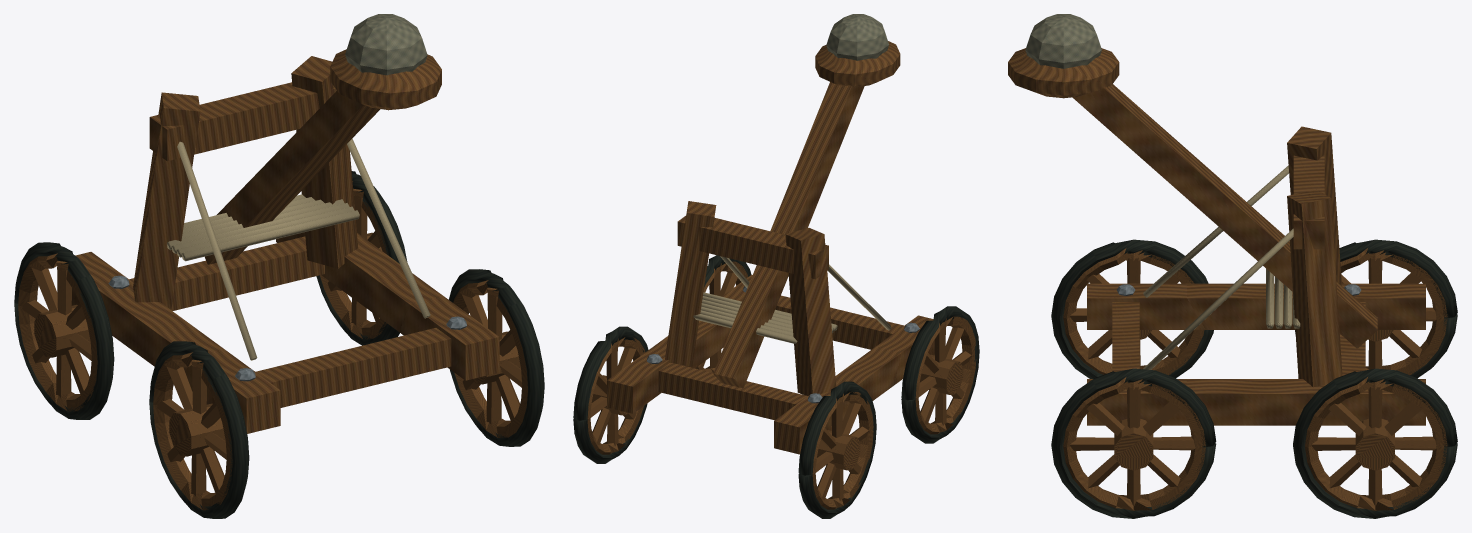
The model's file is special-catapult.glb.
3 views of the same model, side by side, from view 1: azimuth 30°, elevation 25°; view 2: azimuth 150°, elevation 25°; view 3: azimuth 270°, elevation 25° (orthographic). The views are drawn at different scales.
Visible parts, largest first — view 1: wood, dark, linen, stone, steel; view 2: wood, dark, linen, stone; view 3: wood, dark, linen, stone.
Part boxes in pixels (left/top/right/bottom): wood: left=18, top=49, right=527, bottom=510; dark: left=14, top=171, right=544, bottom=518; linen: left=167, top=138, right=430, bottom=360; stone: left=345, top=14, right=427, bottom=75; steel: left=108, top=275, right=466, bottom=381; wood: left=587, top=41, right=976, bottom=509; dark: left=573, top=255, right=979, bottom=518; linen: left=693, top=256, right=891, bottom=343; stone: left=826, top=14, right=888, bottom=60; wood: left=1008, top=48, right=1447, bottom=510; dark: left=1051, top=239, right=1457, bottom=518; linen: left=1143, top=165, right=1300, bottom=369; stone: left=1025, top=14, right=1101, bottom=68.
Bounding box in the file's own units: 0.883 × 1.24 × 1.15.
5 materials, 5 textured.
